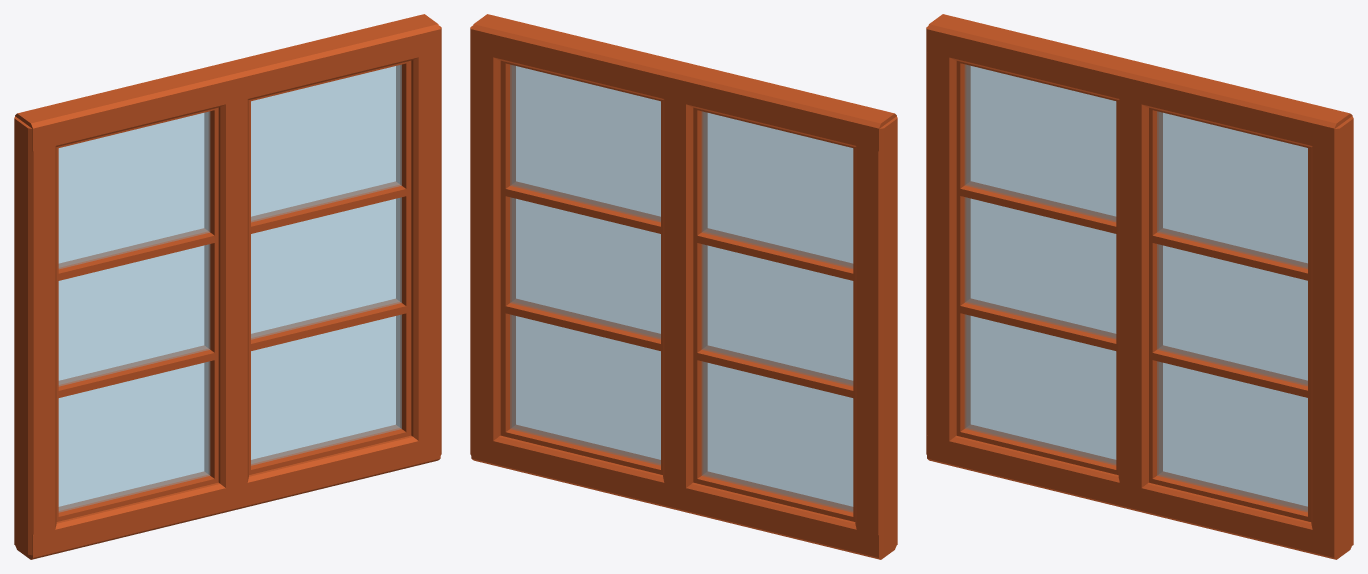
File: windows.obj
3 renders of one model, left to right at view 1: azimuth 30°, elevation 25°; view 2: azimuth 150°, elevation 25°; view 3: azimuth 330°, elevation 25°, orthographic.
Parts seen in each view (by area): view 1: Cube.009_Cube.013, Cube_Cube.005; view 2: Cube.009_Cube.013, Cube_Cube.005; view 3: Cube.009_Cube.013, Cube_Cube.005.
Part boxes in pixels (bbox=[...]): Cube.009_Cube.013: bbox=[58, 65, 401, 512]; Cube_Cube.005: bbox=[14, 14, 441, 559]; Cube.009_Cube.013: bbox=[510, 65, 853, 512]; Cube_Cube.005: bbox=[470, 14, 897, 559]; Cube.009_Cube.013: bbox=[965, 64, 1307, 512]; Cube_Cube.005: bbox=[926, 14, 1353, 559].
Size of the model in its own units: 6.21 by 6.26 by 0.4694.
